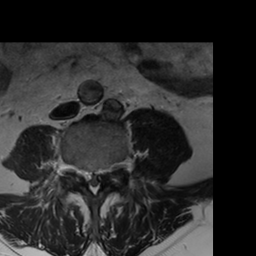CCS_normal: (90, 162, 98, 201)
LFS_stenosis: (105, 156, 113, 181)
LLS_severe_stenosis: (98, 161, 105, 189)
RFS_normal: (74, 157, 82, 183)
RLS_normal: (82, 162, 90, 192)
